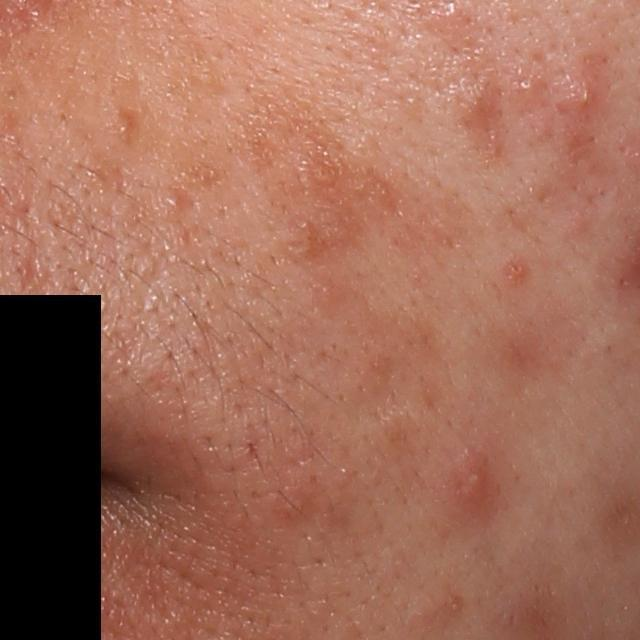comedo: (159, 188, 189, 212), (113, 107, 135, 138)
papule: (451, 447, 497, 516), (557, 71, 607, 129), (450, 75, 497, 131), (504, 257, 530, 282)
